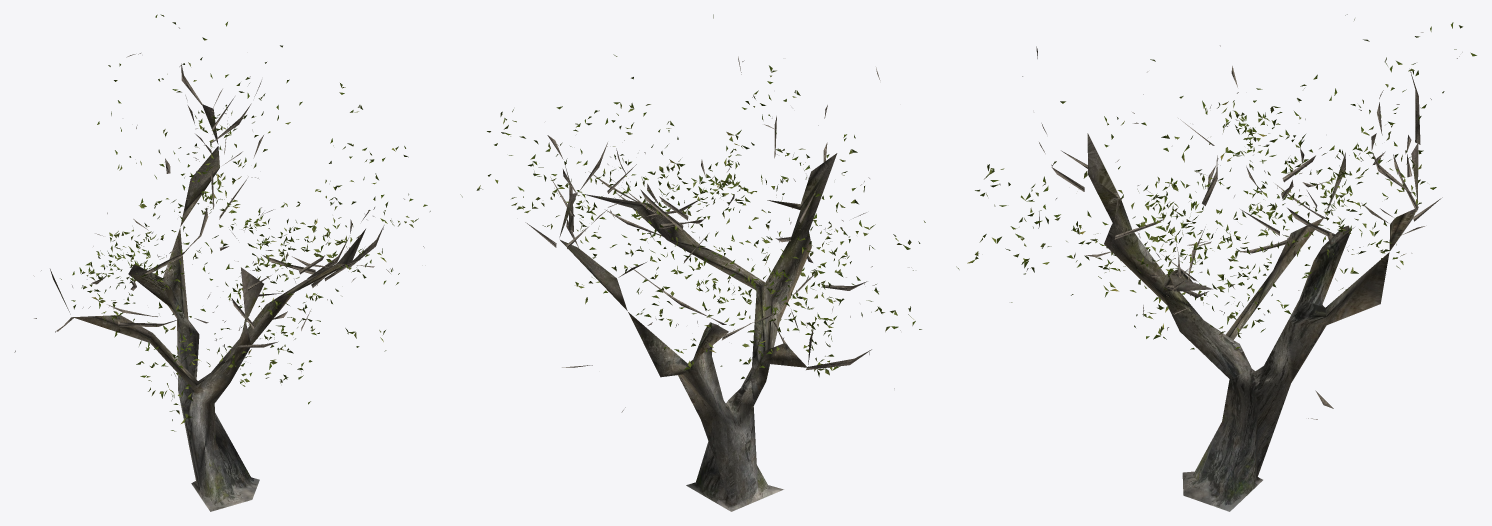
Rendered from island_tree_01.glb.
3 renders of one model, left to right at view 1: azimuth 30°, elevation 25°; view 2: azimuth 150°, elevation 25°; view 3: azimuth 270°, elevation 25°, orthographic. The views are drawn at different scales.
Visible parts, largest first — view 1: island_tree_01_LOD0; view 2: island_tree_01_LOD0; view 3: island_tree_01_LOD0.
Boxes of the visible parts, <box> form: island_tree_01_LOD0: <box>14,14,430,511</box>; island_tree_01_LOD0: <box>460,14,925,511</box>; island_tree_01_LOD0: <box>956,14,1476,511</box>.
Size of the model in its own units: 4.47 by 4.75 by 4.42.
3 materials, 3 textured.
